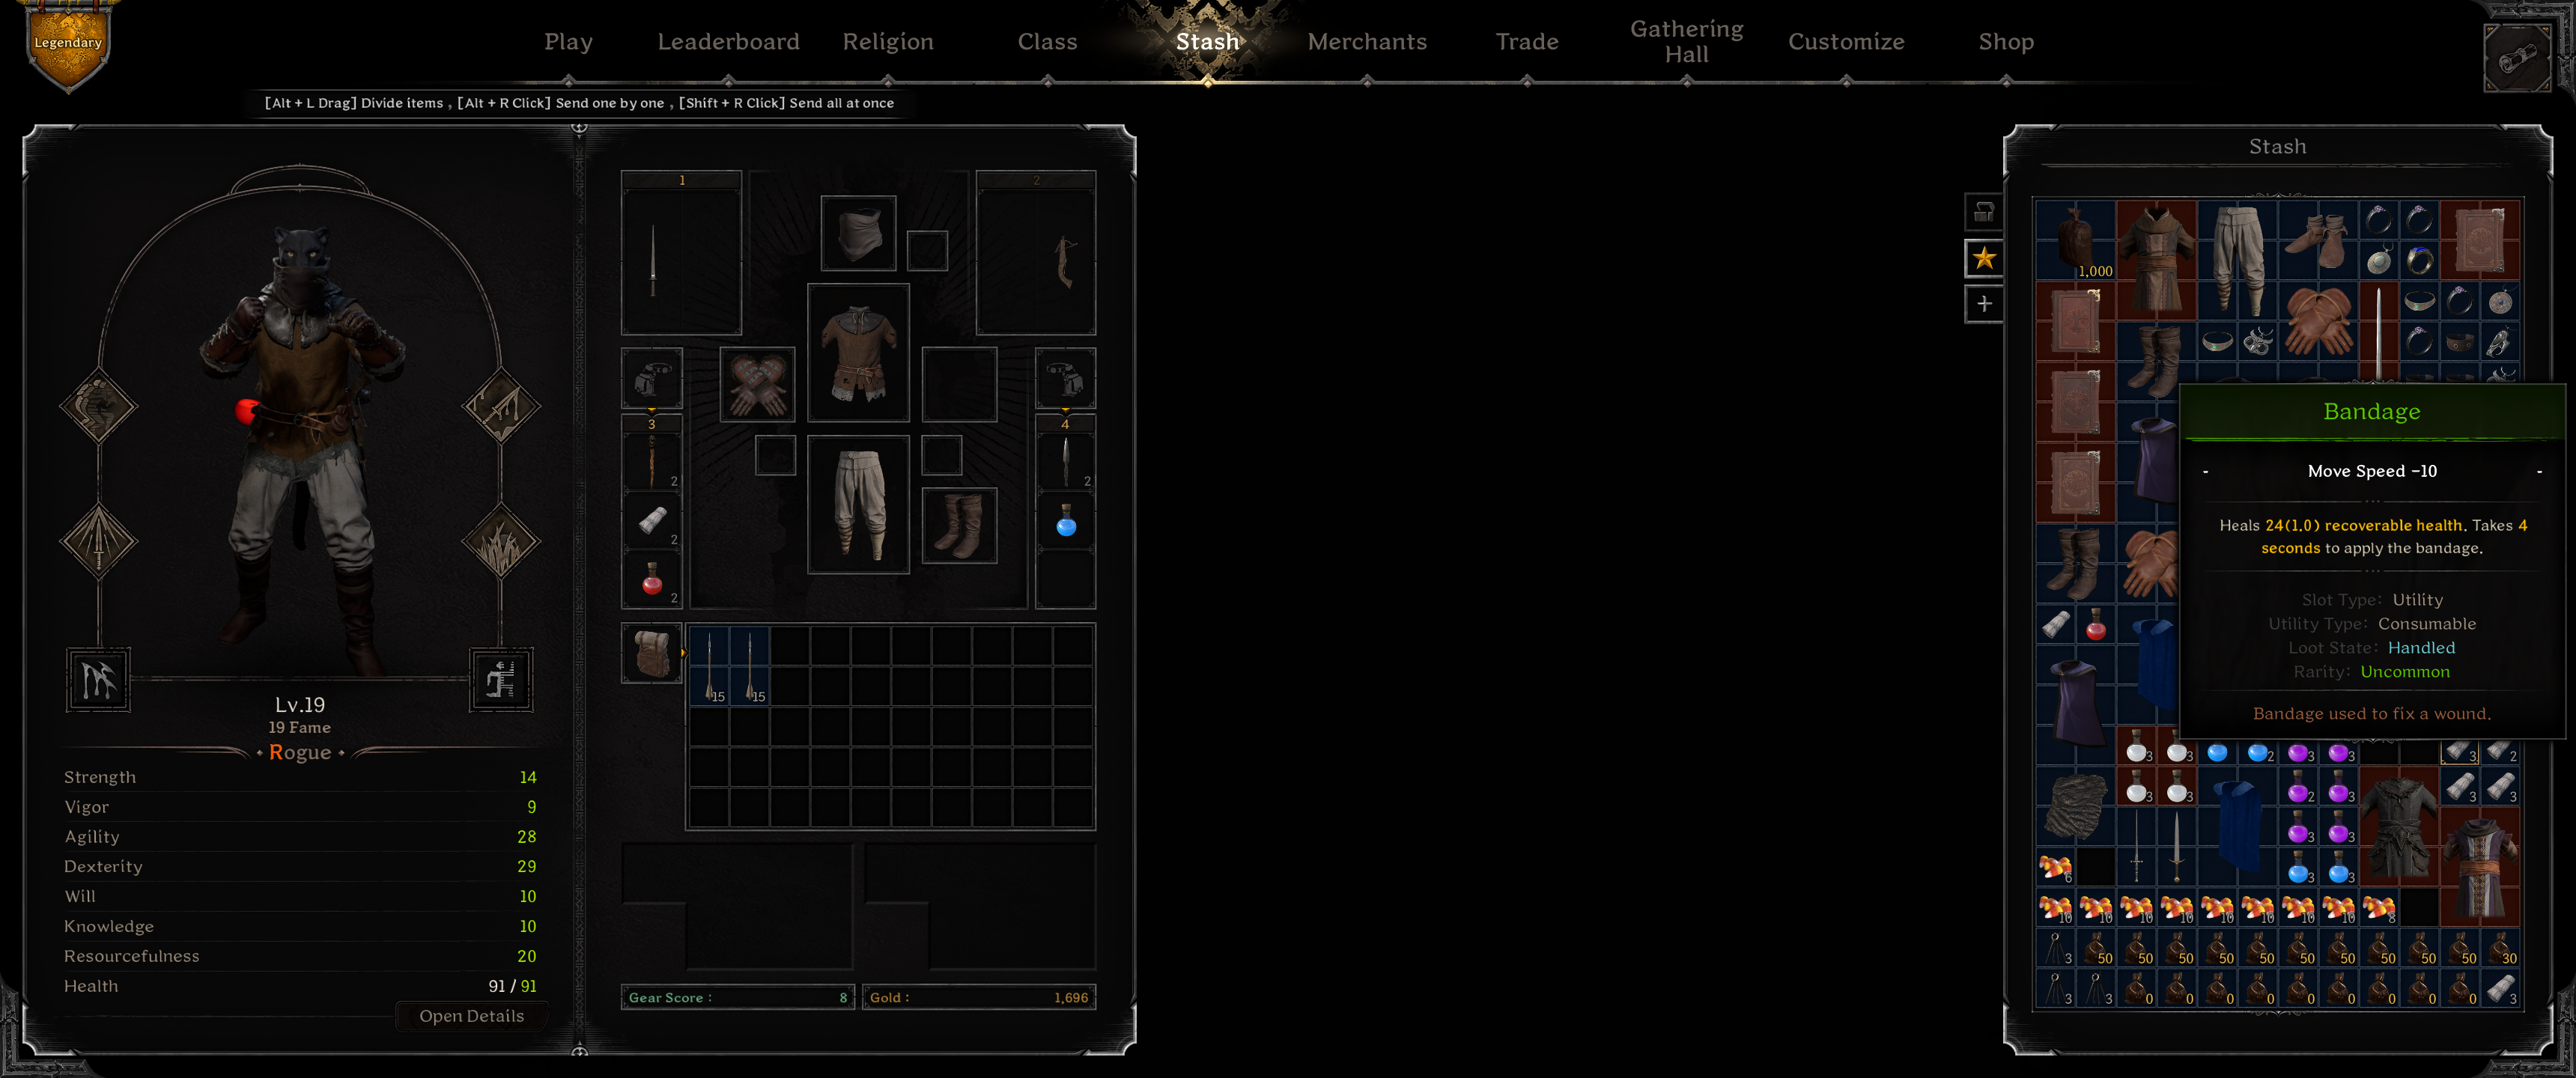Tooltip: (2177, 381, 2568, 741)
